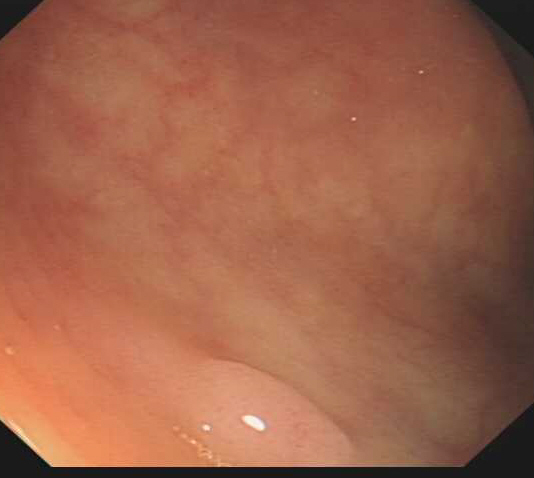adenoma: (157, 354, 356, 467)
